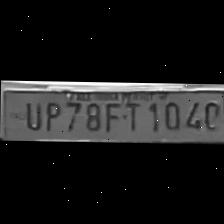0: (160, 97, 180, 130), (200, 97, 220, 130)
1: (142, 98, 160, 132)
4: (182, 97, 202, 130)
7: (60, 97, 82, 132)
8: (82, 98, 102, 131)
F: (101, 97, 121, 132)
P: (40, 98, 61, 132)
T: (122, 98, 142, 132)
U: (21, 99, 41, 130)
